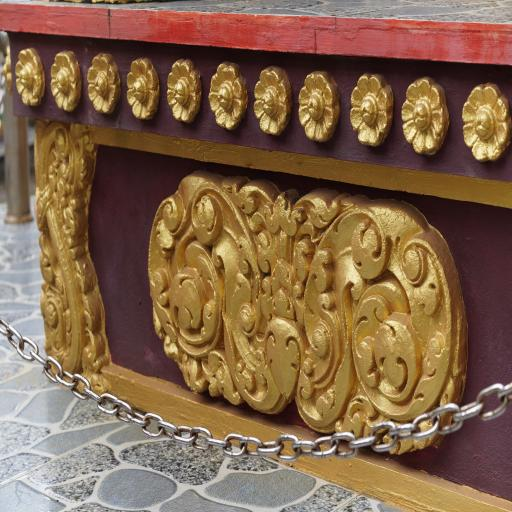hoa: (459, 74, 512, 165), (397, 62, 445, 157), (116, 38, 160, 130), (202, 52, 251, 132), (246, 53, 289, 143), (160, 42, 203, 130), (292, 70, 338, 152), (348, 62, 390, 147), (40, 40, 83, 112), (4, 44, 45, 111), (81, 44, 119, 116)
la: (280, 187, 499, 460), (143, 177, 288, 420)
